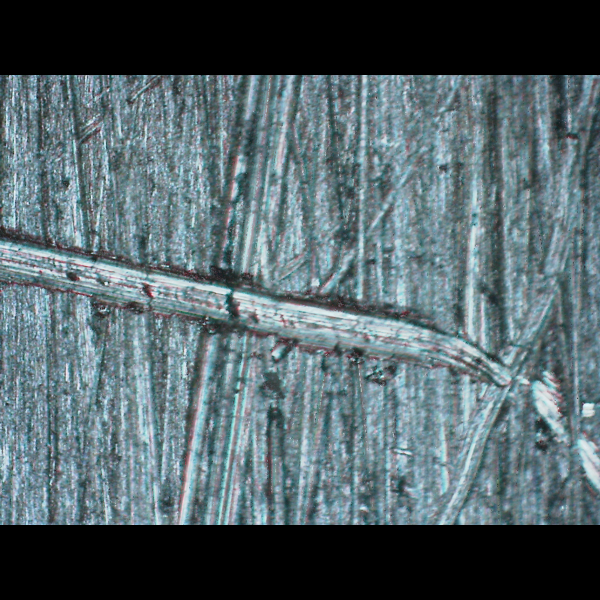d: (0, 223, 597, 493)
